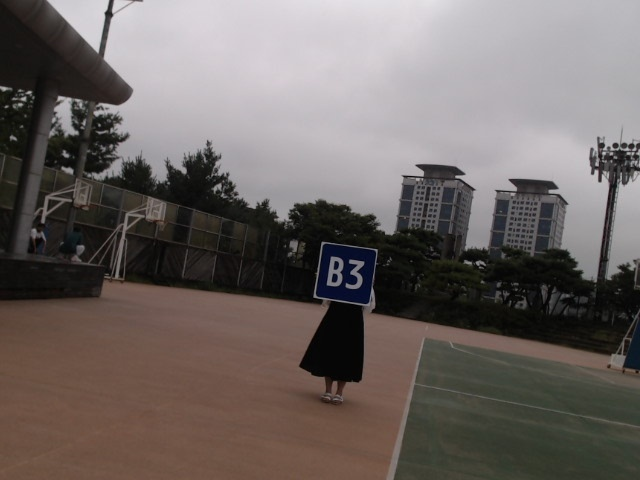delivery_b3: (314, 242, 377, 306)
